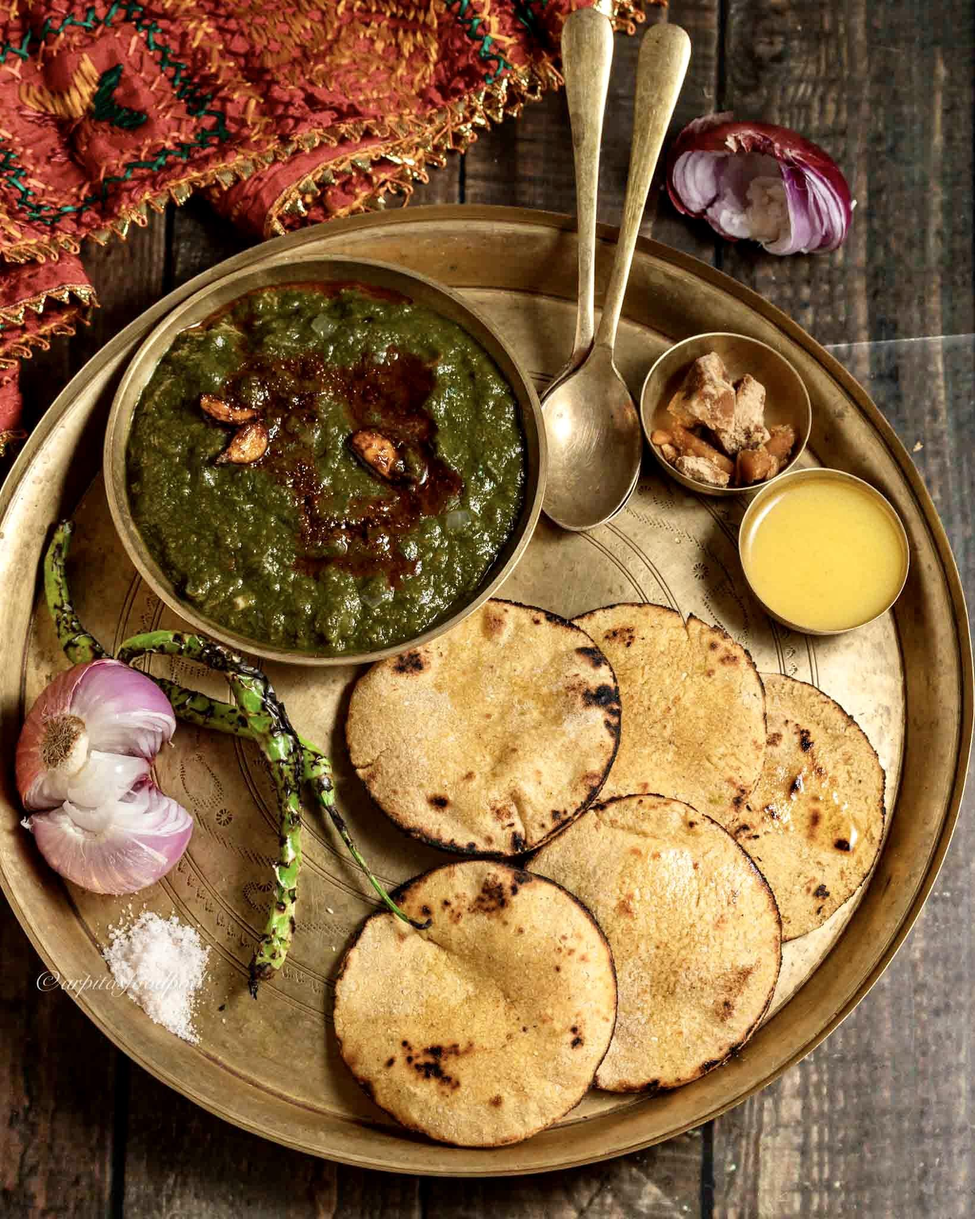saag: (125, 276, 542, 651)
